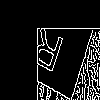R: (25, 25, 66, 83)
